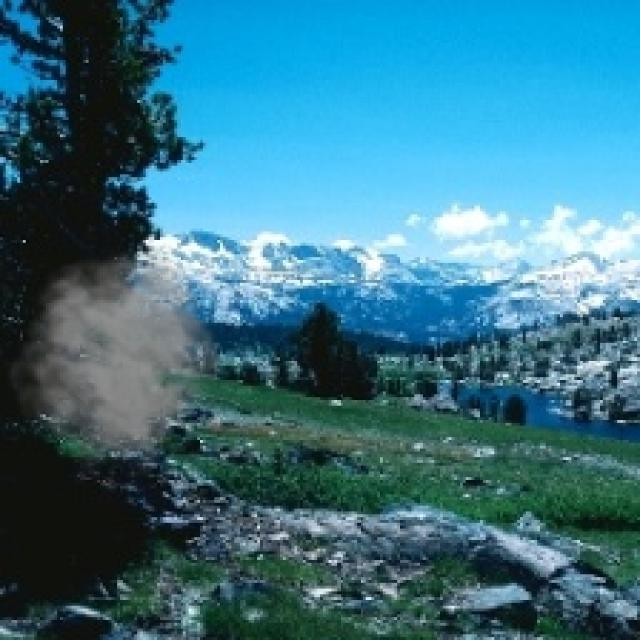smoke: (6, 246, 220, 477)
